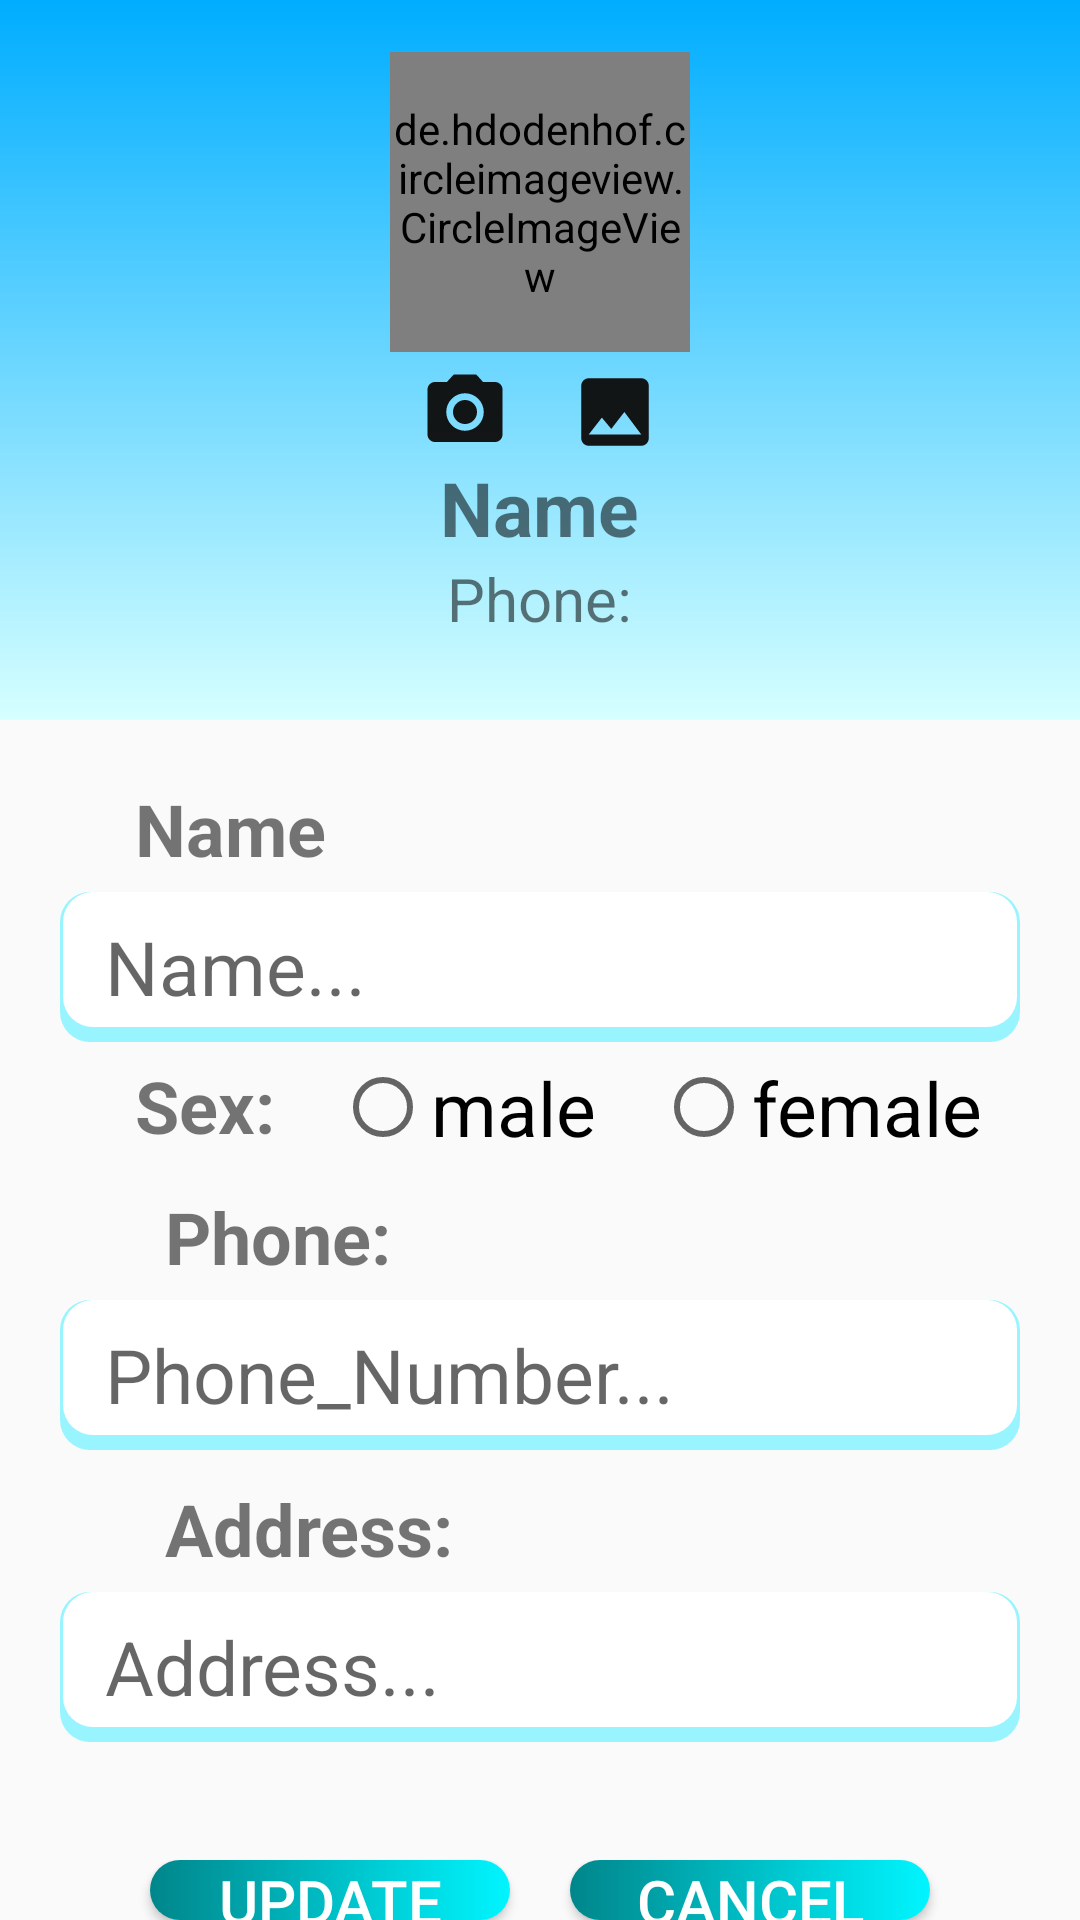

Screen size 1080w x 1920h. Icon name, then its box in pixels as (x1, y1, x2, y2):
camera: (427, 374, 503, 442)
photo: (570, 378, 660, 457)
